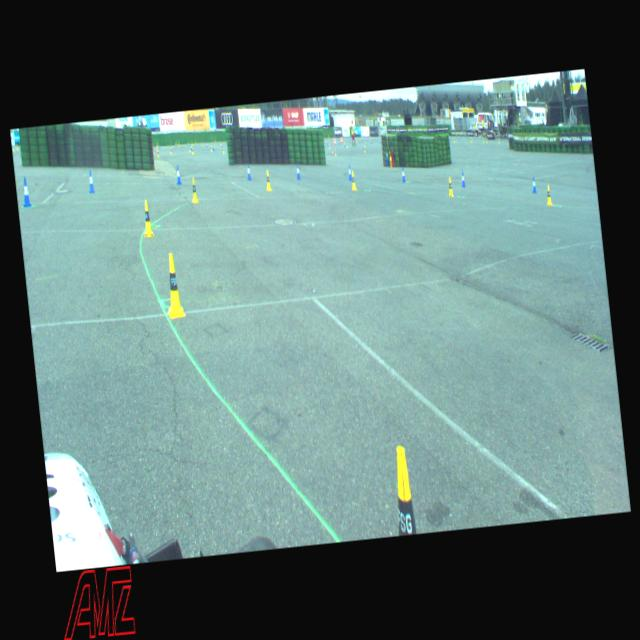blue_cone: (20, 175, 31, 207), (86, 168, 94, 193), (174, 164, 182, 184), (246, 162, 252, 180), (460, 170, 466, 187), (530, 176, 536, 193), (346, 164, 352, 179), (400, 166, 405, 182), (296, 162, 300, 180), (384, 150, 388, 160)
yellow_cone: (389, 444, 416, 534), (161, 252, 185, 319), (140, 198, 154, 238), (188, 176, 198, 204), (544, 183, 552, 206), (264, 168, 271, 192), (446, 176, 453, 197), (349, 170, 356, 190), (388, 150, 391, 160)
